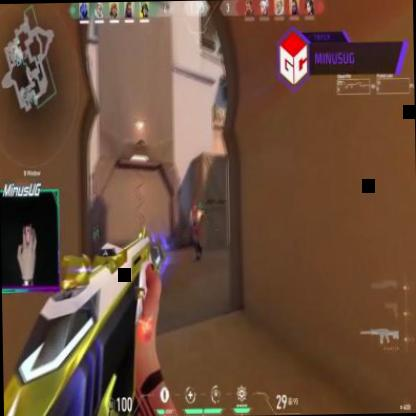enemy: (187, 198, 202, 260)
enemy_head: (192, 200, 198, 210)
